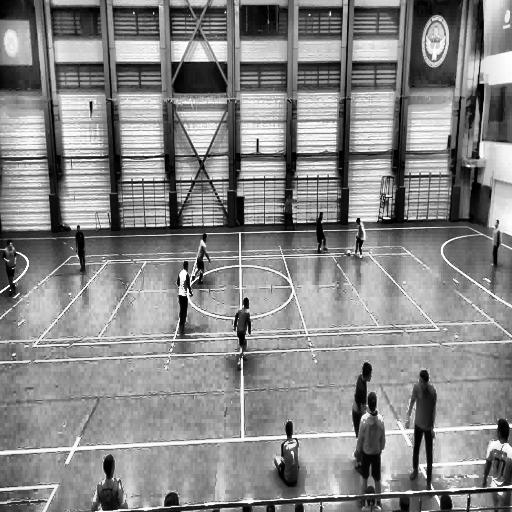ball: (346, 249, 352, 258)
player: (405, 369, 435, 486), (355, 392, 385, 502), (233, 296, 252, 370), (177, 261, 194, 337), (192, 233, 212, 286), (3, 238, 17, 296), (489, 220, 501, 268), (74, 224, 86, 272), (315, 212, 327, 253), (282, 193, 295, 230), (354, 216, 364, 256)
